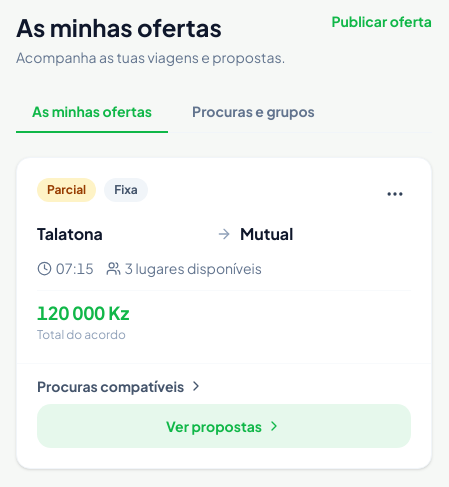
Test: DriverDashboard — marketplace › com oferta activa sem procuras no marketplace: empty state todas
The width and height of the screenshot is (449, 487).
Expected: the text "Talatona" is shown, [37, 223, 103, 244]
Step 1. Click the tab "Procuras e grupos" → (254, 112), box [176, 91, 331, 133]
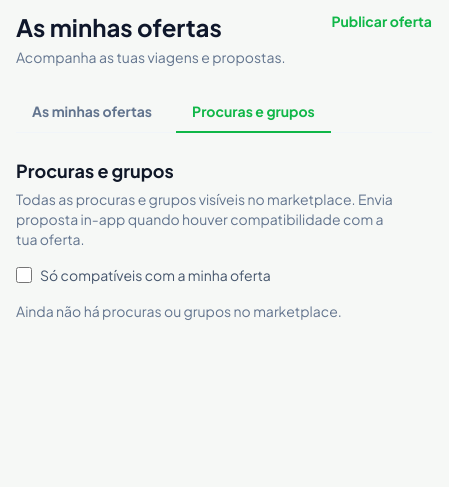
Result: the text "Ainda não há procuras ou grupos no marketplace." is shown at [16, 302, 342, 320]
